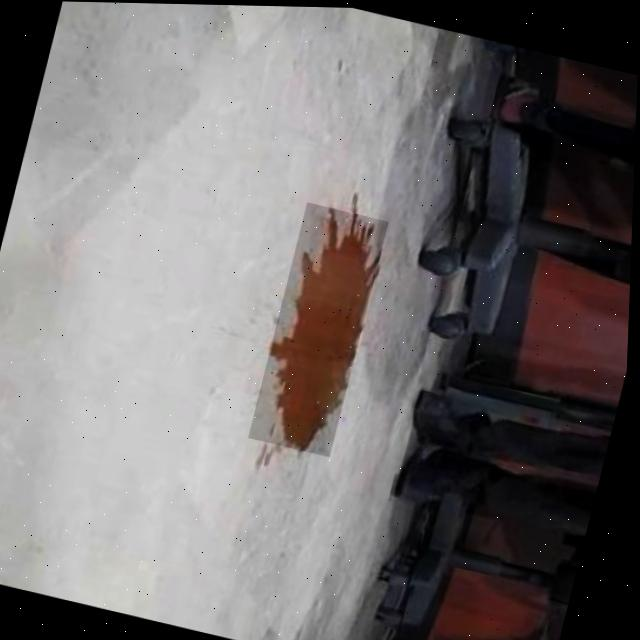spillage: (271, 210, 374, 447)
